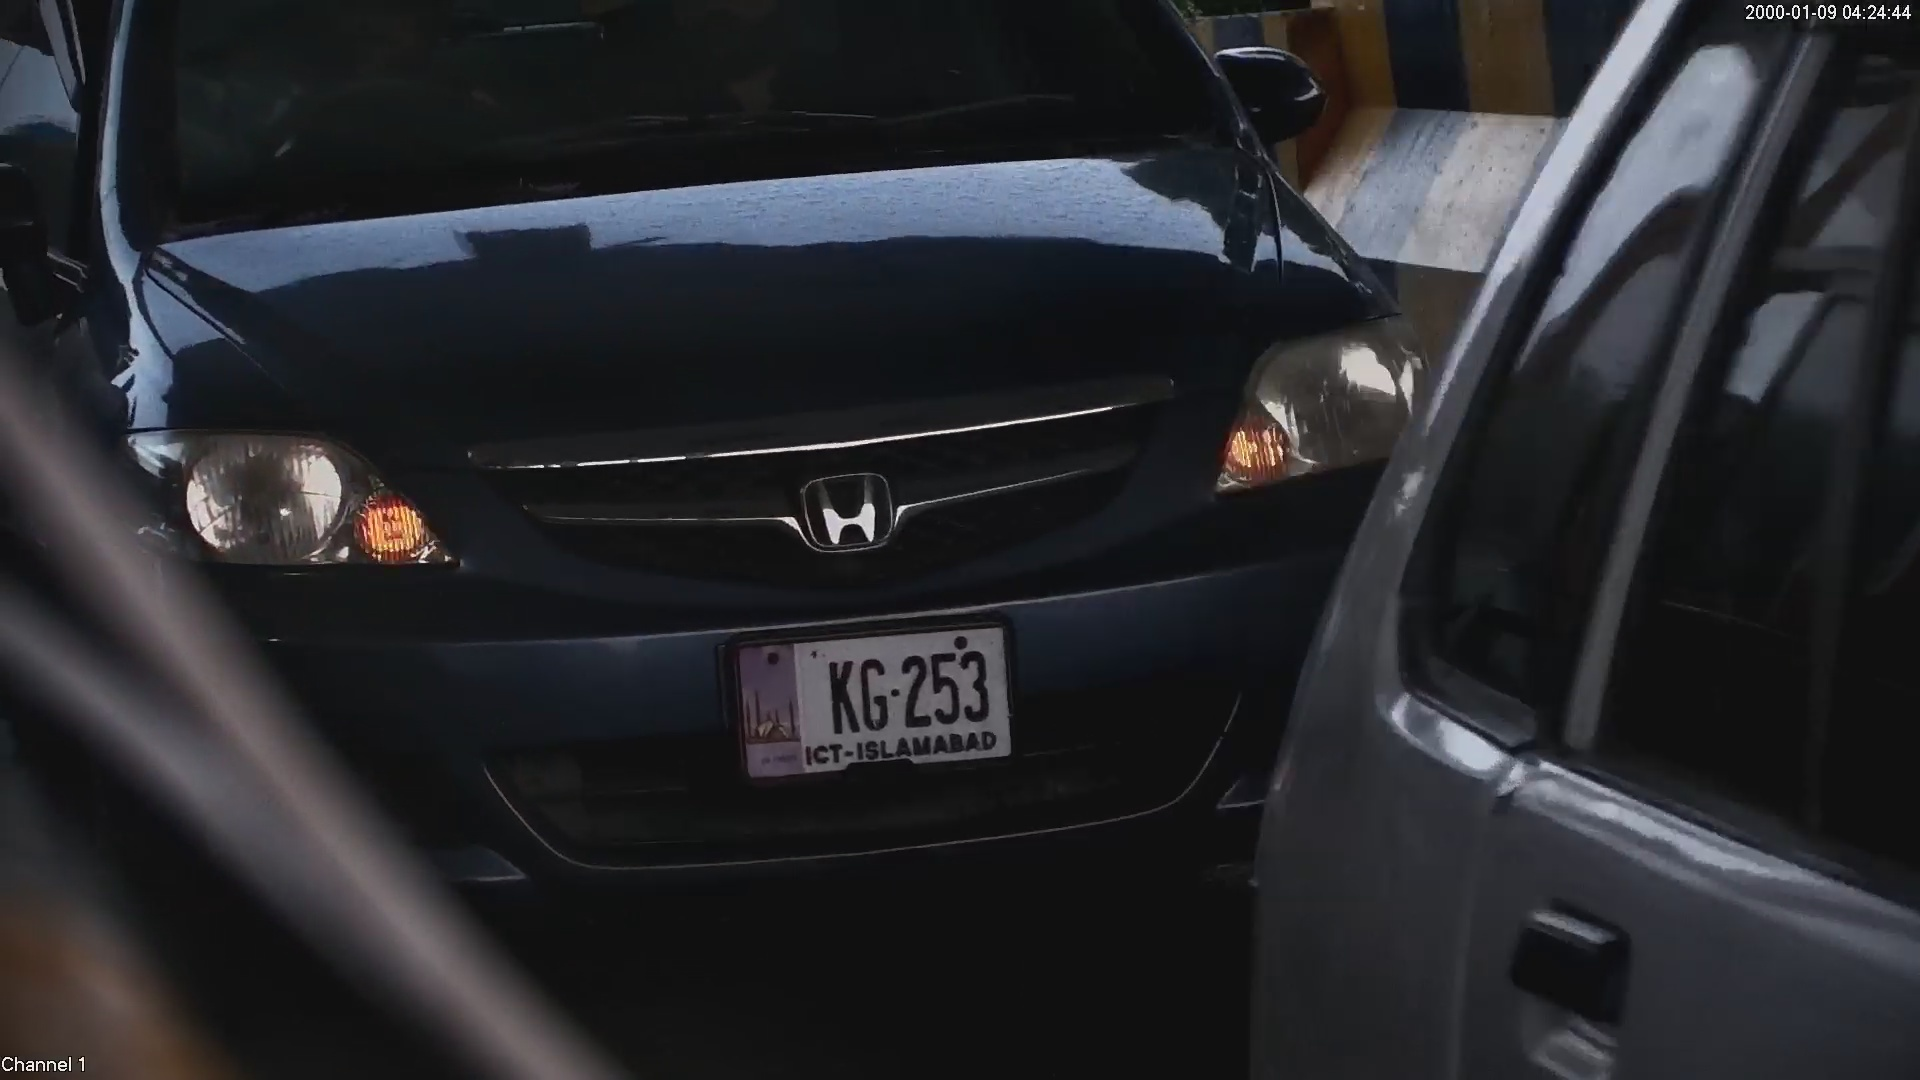Number_Plate: (706, 609, 1019, 775)
Undefined: (108, 440, 432, 568), (1228, 325, 1410, 486), (787, 459, 904, 551)
